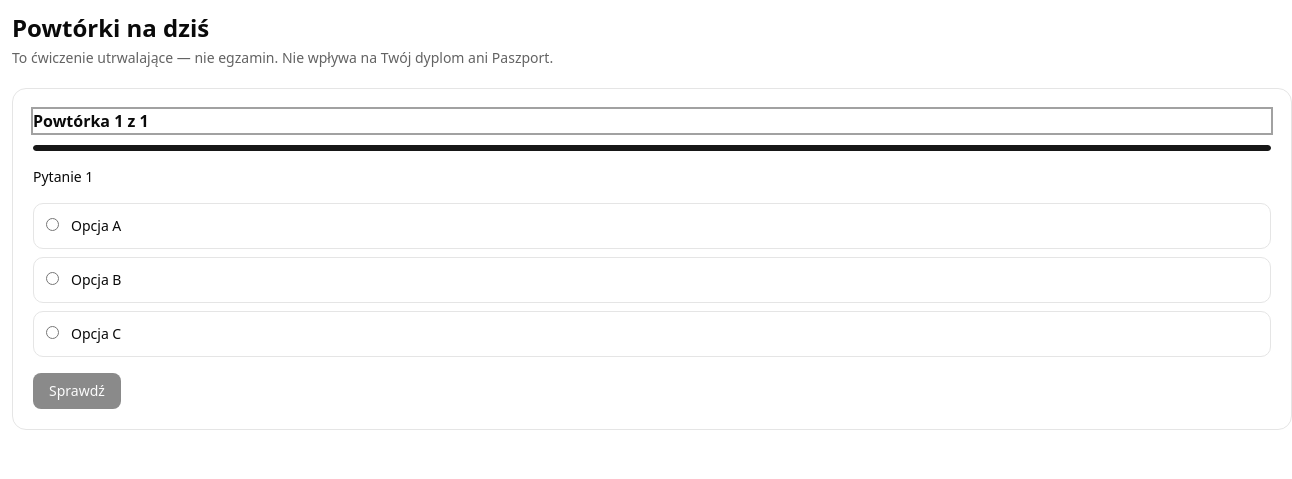
Scenario: ReviewRunner — mapowanie kodów błędów › 429 scope=burst → komunikat retry, wybór zostaje, niezależnie od Retry-After
expect the heading "Powtórka 1 z 1" is shown: met, box [33,109,1271,133]
Click the radio button labelled "Opcja A": (52, 224) [46,218,59,231]
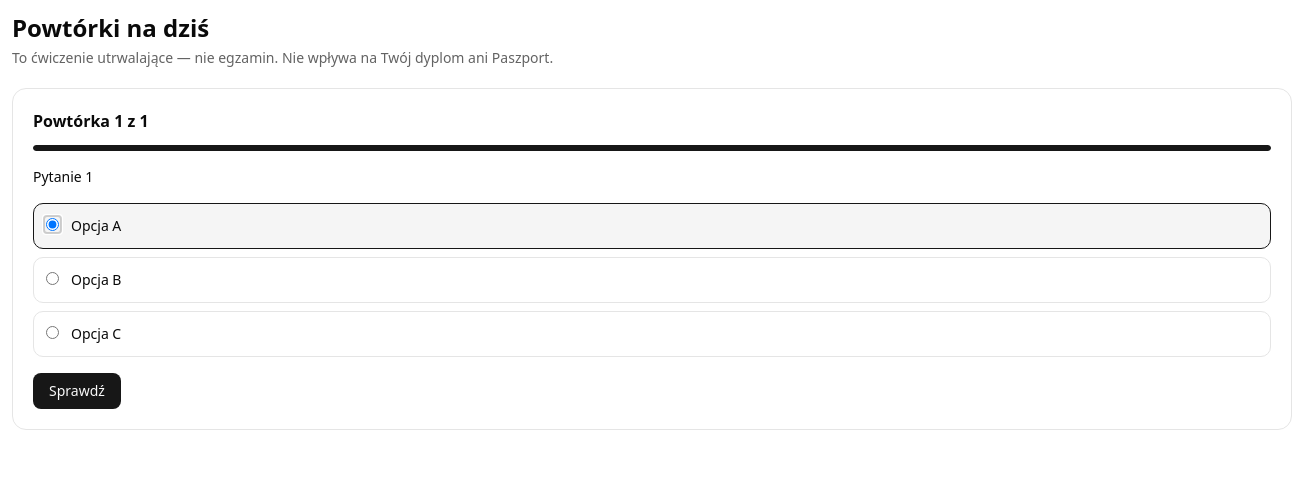
Click the button "Sprawdź": (77, 391) [33,373,121,409]
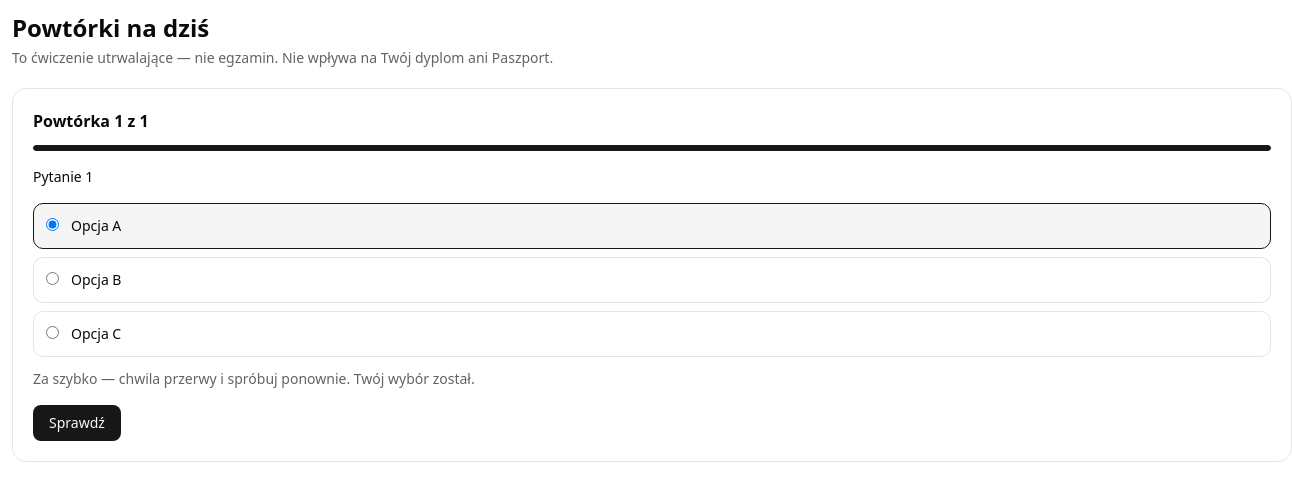
expect the radio button labelled "Opcja A" is checked: met, box [46,218,59,231]
expect the message shows "Za szybko": met, box [33,369,475,388]
